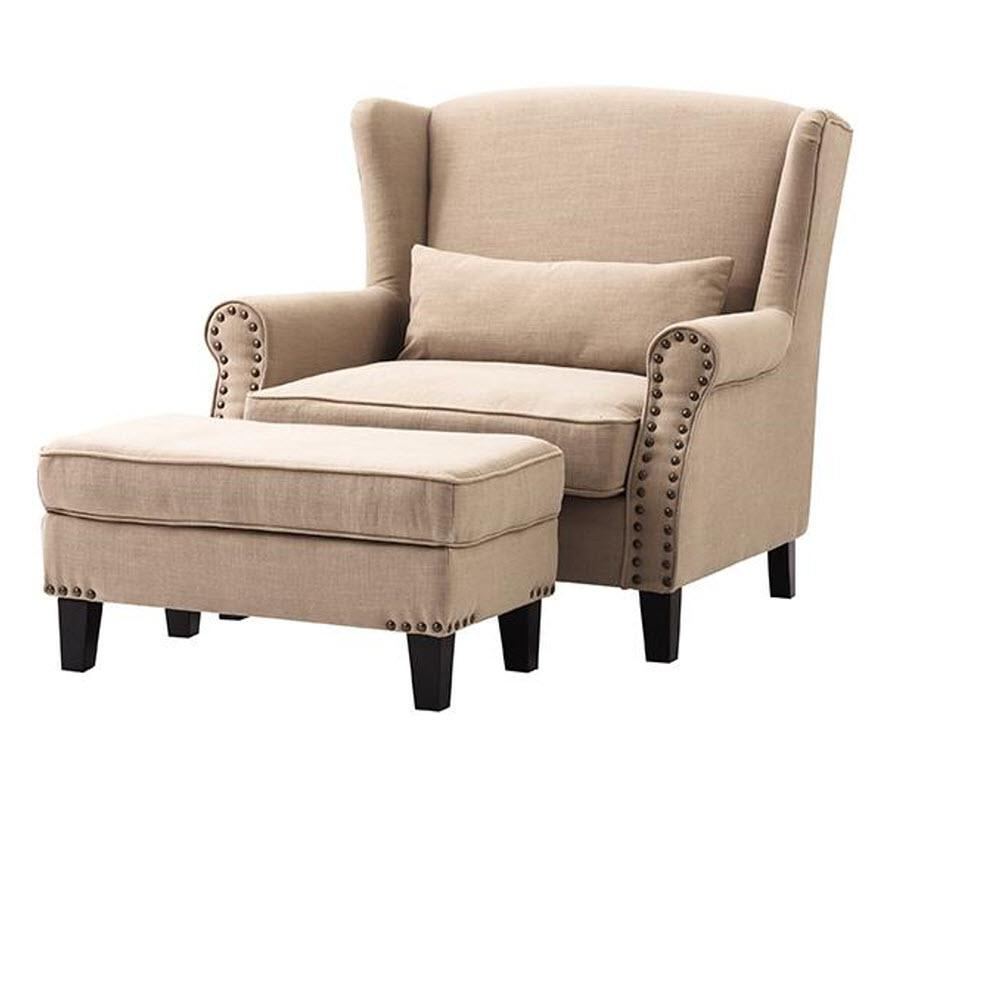chairs: (199, 80, 857, 665), (24, 404, 576, 719)
